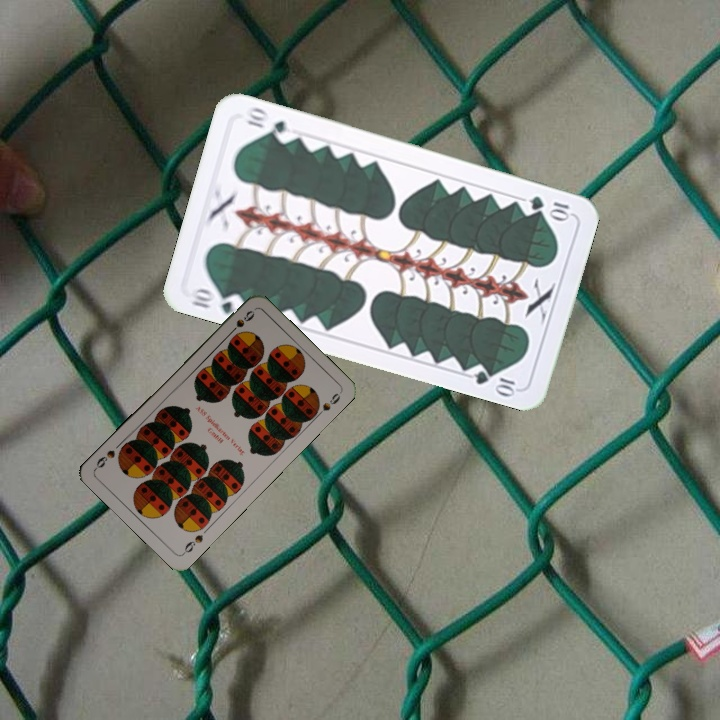G10: (186, 284, 247, 317), (525, 191, 572, 222)
S9: (224, 306, 257, 338), (179, 530, 206, 557)
